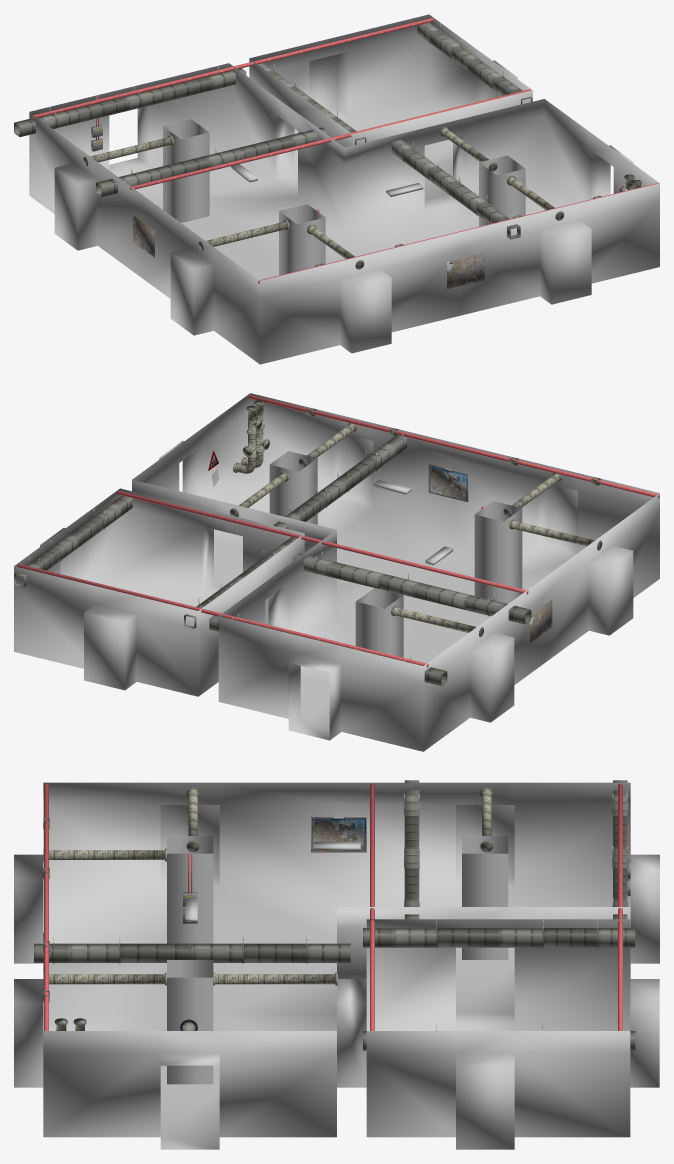
File: warehouse.fbx
The picture shows the model from 3 angles, top to bottom: view 1: azimuth 30°, elevation 25°; view 2: azimuth 150°, elevation 25°; view 3: azimuth 270°, elevation 25°; orthographic projection. The views are drawn at different scales.
Parts seen in each view (by area): view 1: Mesh; view 2: Mesh; view 3: Mesh.
Part boxes in pixels (x1,y1,x2,y2): Mesh: (14,14,659,364); Mesh: (14,393,659,751); Mesh: (14,780,659,1149).
Size of the model in its own units: 2200 by 404 by 2200.
